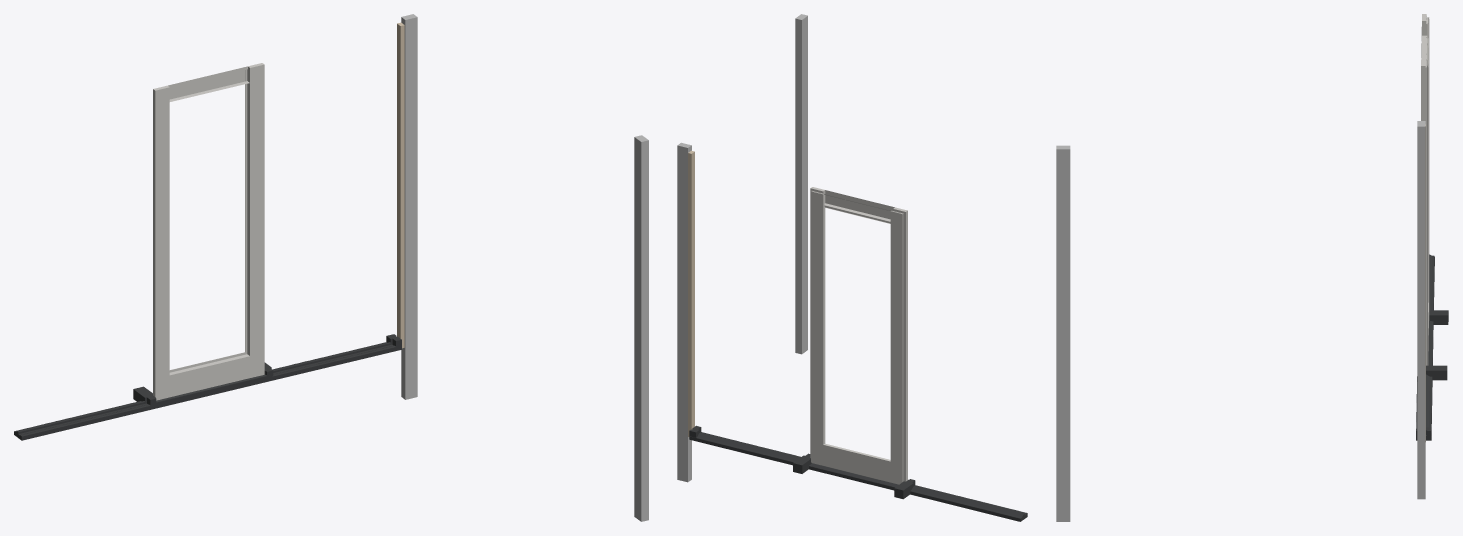
The picture shows the model from 3 angles, left to right: view 1: azimuth 30°, elevation 25°; view 2: azimuth 150°, elevation 25°; view 3: azimuth 270°, elevation 25°; orthographic projection. The views are drawn at different scales.
Size of the model in its own units: 3.78 by 3.11 by 2.96.
